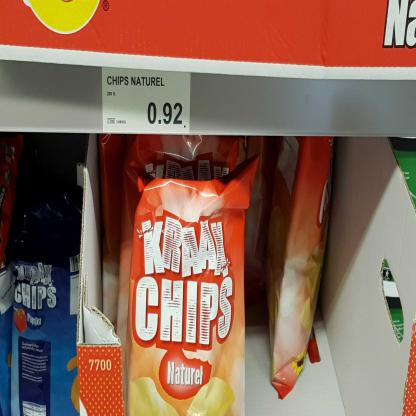prtg: (103, 68, 192, 134)
